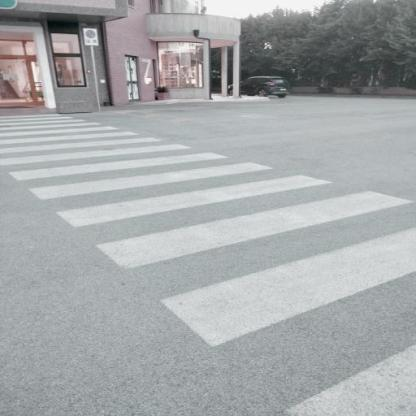crosswalk: (49, 172, 416, 274)
